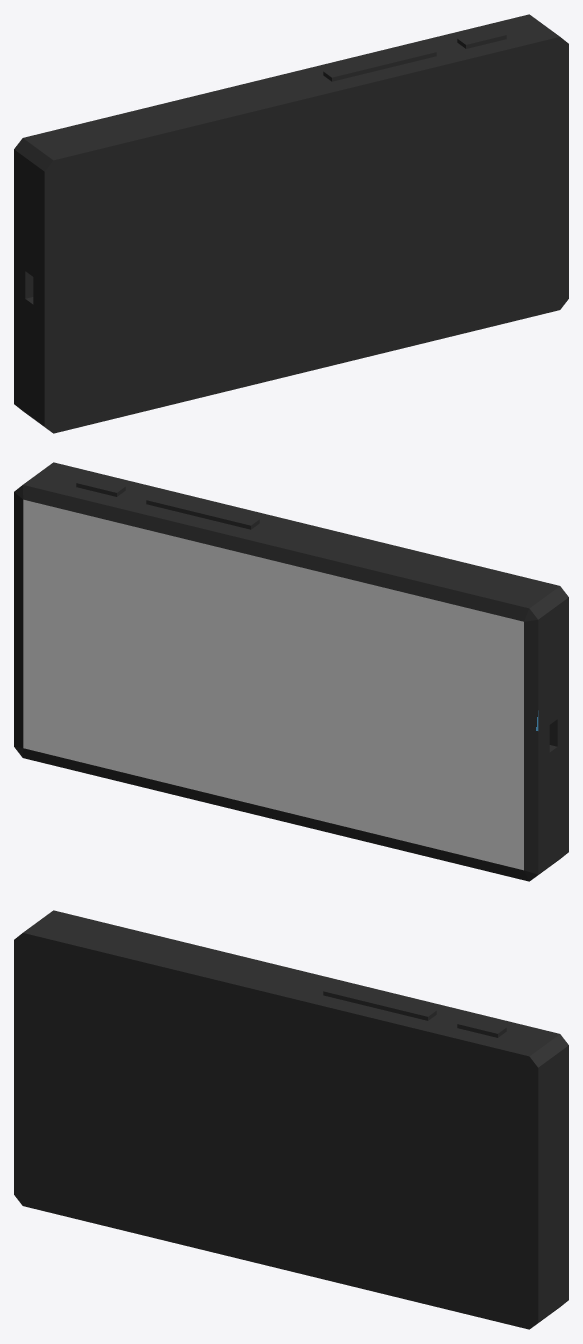
Rendered from phone.glb.
The picture shows the model from 3 angles, top to bottom: view 1: azimuth 30°, elevation 25°; view 2: azimuth 150°, elevation 25°; view 3: azimuth 330°, elevation 25°; orthographic projection.
Visible parts, largest first — view 1: Phone; view 2: Screen, Phone; view 3: Phone.
Part boxes in pixels (left/top/right/bottom): Phone: left=14, top=14, right=568, bottom=433; Screen: left=23, top=499, right=523, bottom=870; Phone: left=14, top=462, right=568, bottom=881; Phone: left=14, top=910, right=568, bottom=1329.
Size of the model in its own units: 2 by 1.01 by 0.2191.
Materials: 2 (1 with a texture image).
